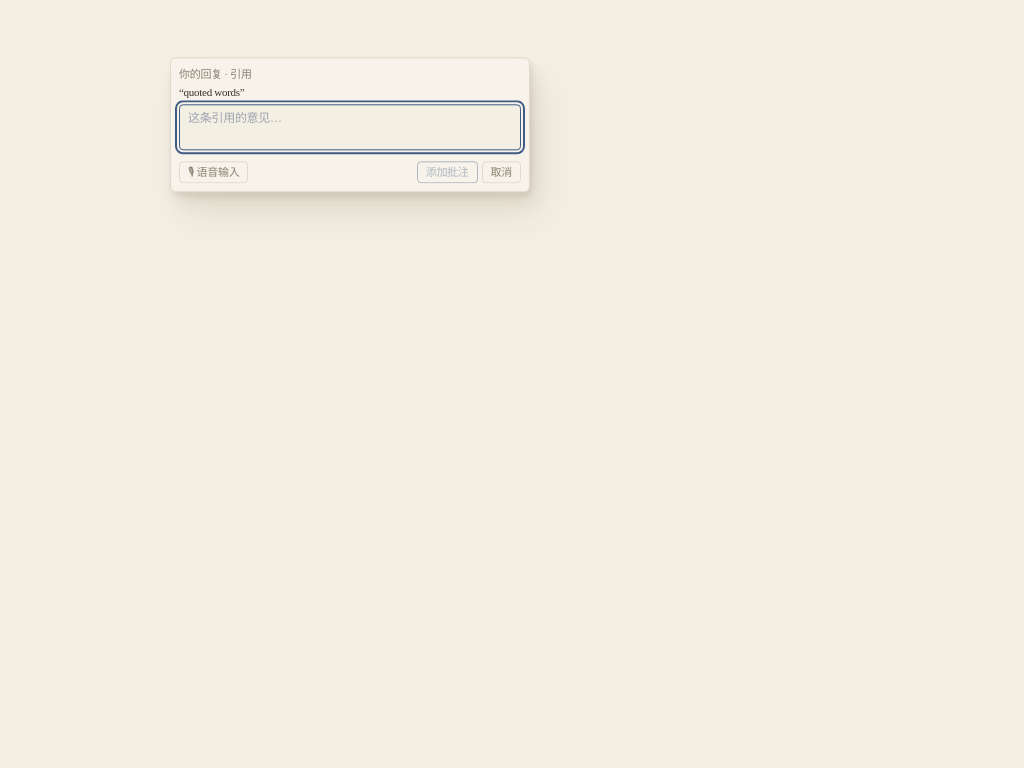
voice input for comments › adds dictated text to a quoted comment without replacing typed text
Step 1. Type "已有意见" into the text box named "批注内容" → x=350, y=127, box [179,104,521,150]
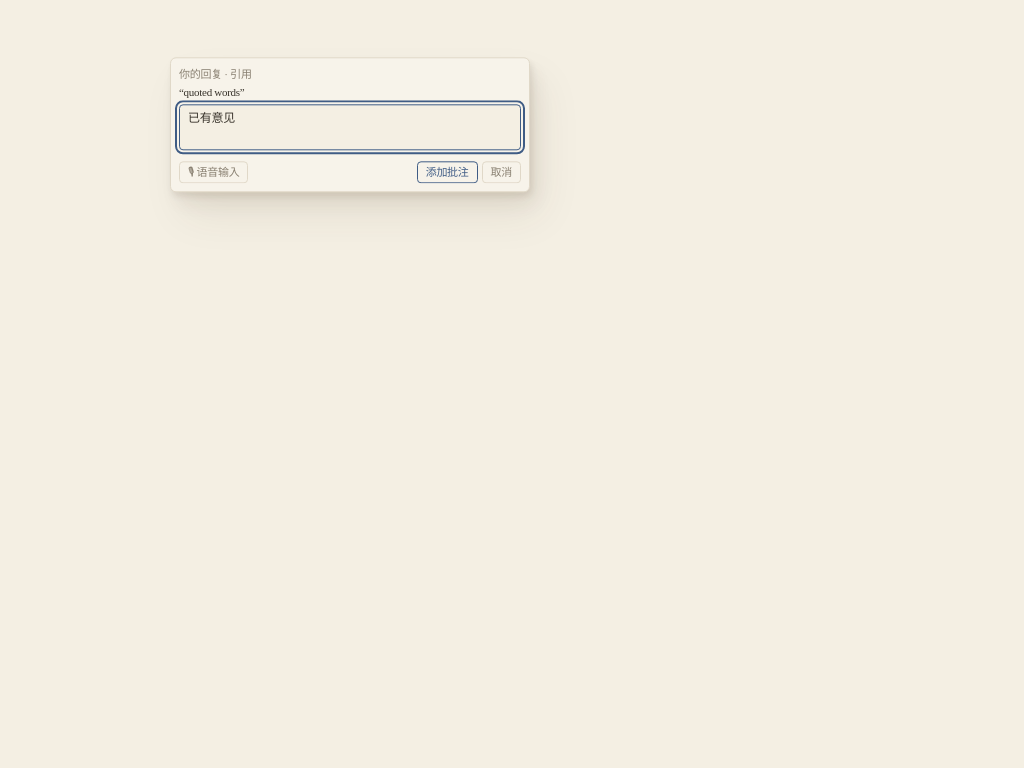
Step 2. Click the button with aria-label "开始语音输入" → x=214, y=172, box [179,161,248,183]
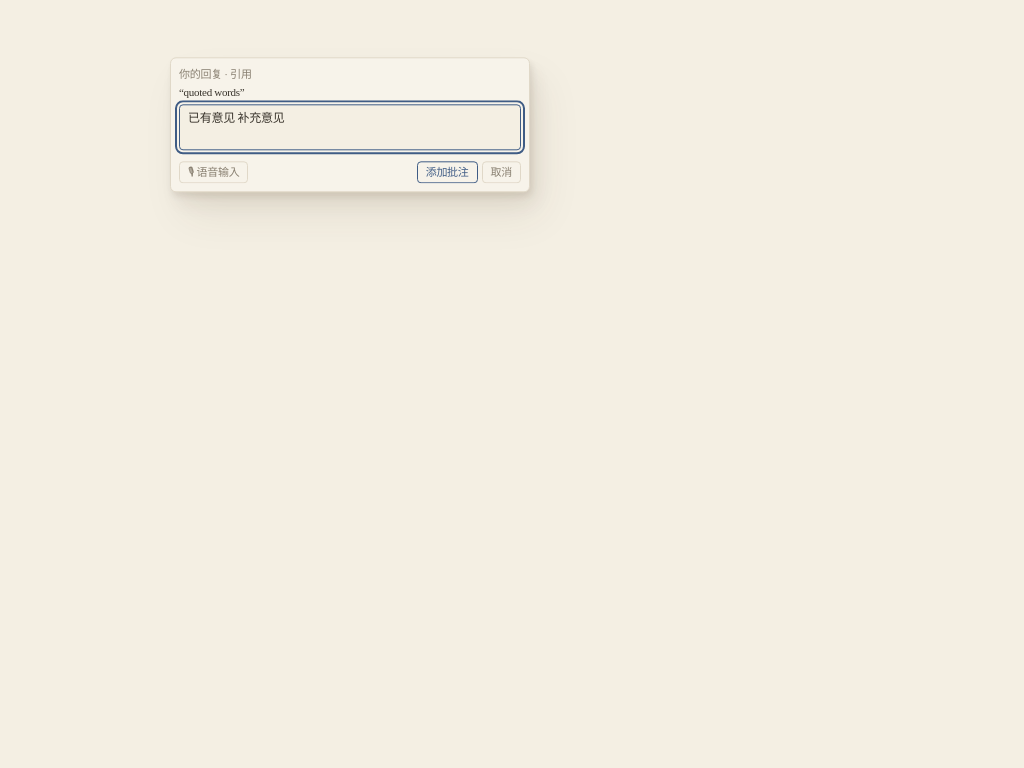
expect the text box named "批注内容" holds "已有意见 补充意见": met, box [179,104,521,150]
